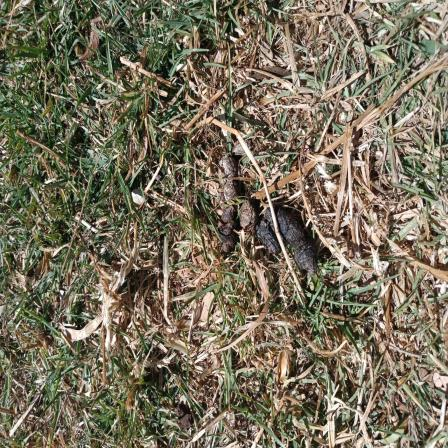dog-poop: (212, 144, 324, 286)
